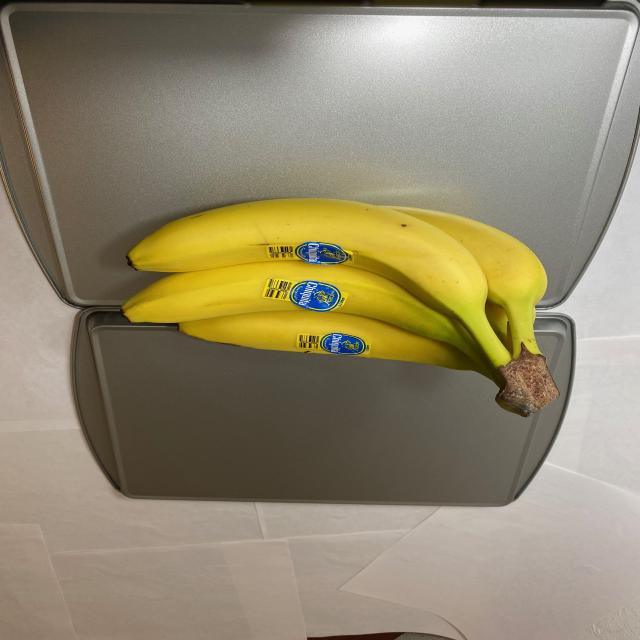banana: (119, 198, 567, 418)
